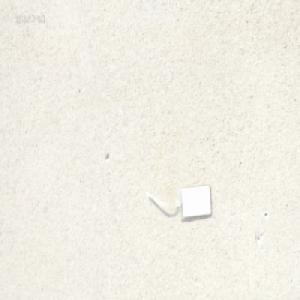LuggageTag: (142, 179, 213, 221)
